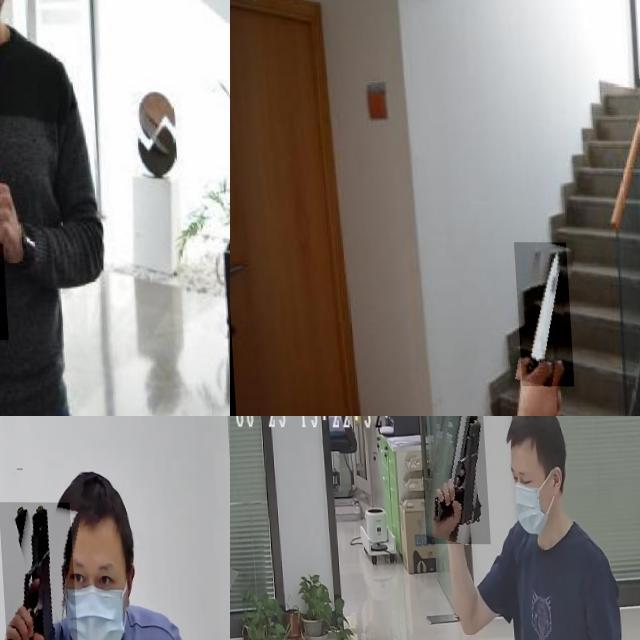-: (510, 242, 569, 386), (0, 243, 17, 340)
gun-knife-thesis - v11 Yolov5 augmented: (0, 501, 74, 640), (418, 416, 488, 543)
